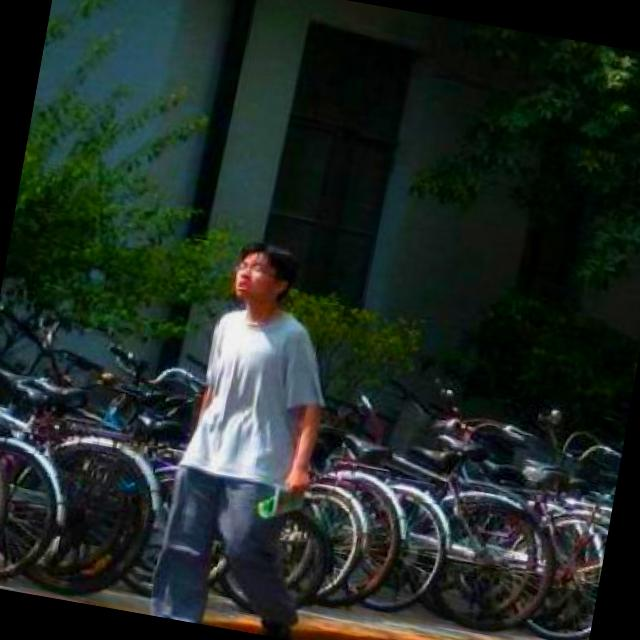Person: (136, 221, 370, 640)
